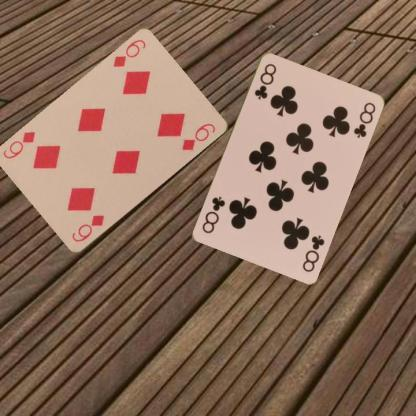6d: (68, 212, 106, 244), (110, 37, 148, 69)
8c: (299, 232, 326, 273), (252, 60, 278, 101)
